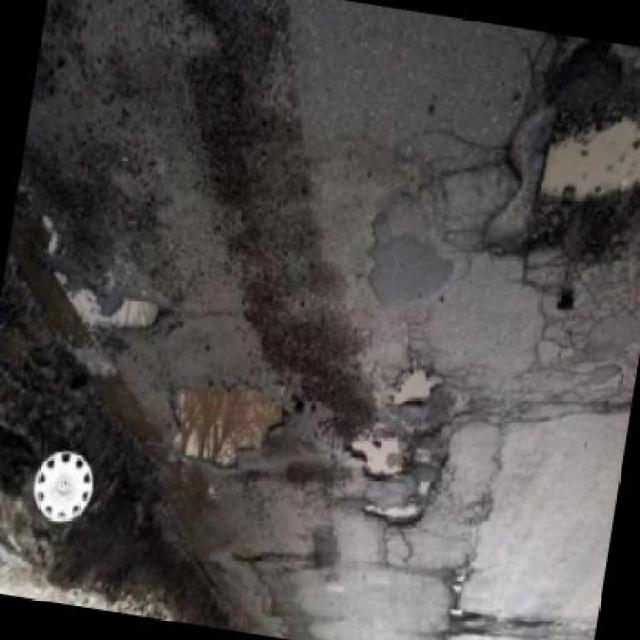pothole1: (516, 92, 638, 285), (162, 375, 289, 479), (342, 428, 406, 490), (104, 291, 162, 344), (388, 364, 442, 418), (358, 492, 422, 534)
